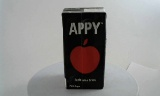appy: (57, 5, 100, 89)
